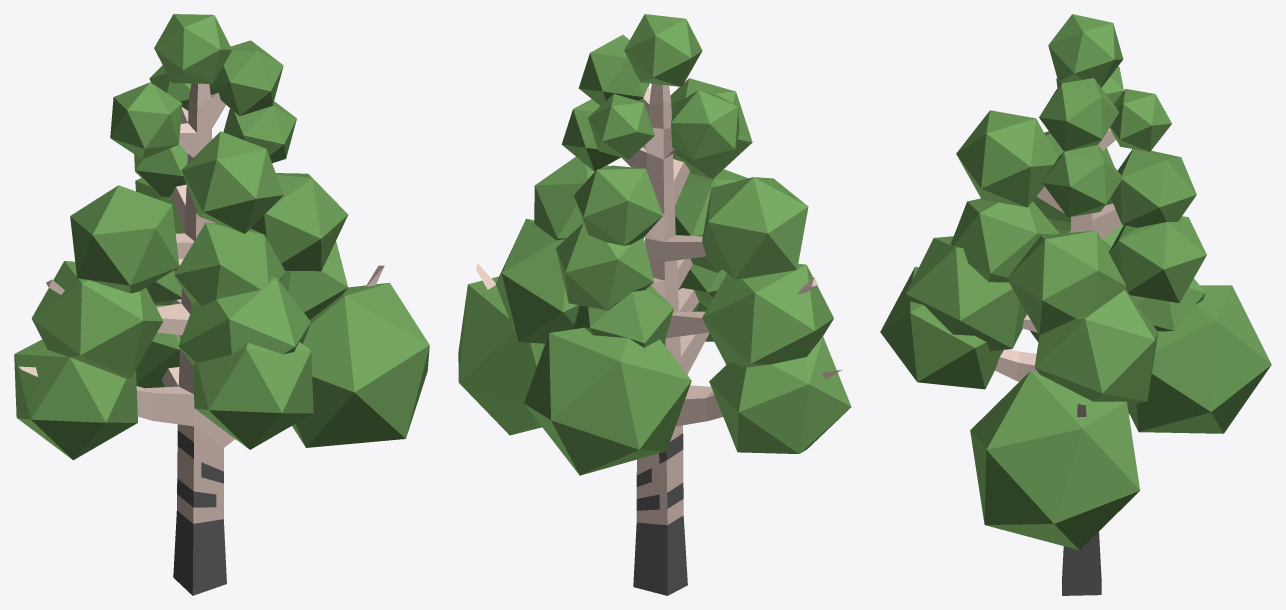
The model's file is forest_tree_4.fbx.
3 views of the same model, side by side, from view 1: azimuth 30°, elevation 25°; view 2: azimuth 150°, elevation 25°; view 3: azimuth 270°, elevation 25° (orthographic).
Parts seen in each view (by area): view 1: ForestTree4_LOD0; view 2: ForestTree4_LOD0; view 3: ForestTree4_LOD0.
Part boxes in pixels (<box>): ForestTree4_LOD0: <box>14,14,429,595</box>; ForestTree4_LOD0: <box>458,14,851,595</box>; ForestTree4_LOD0: <box>880,14,1271,595</box>.
Size of what is drawn, in the model's own units: 1149 by 1576 by 987.
